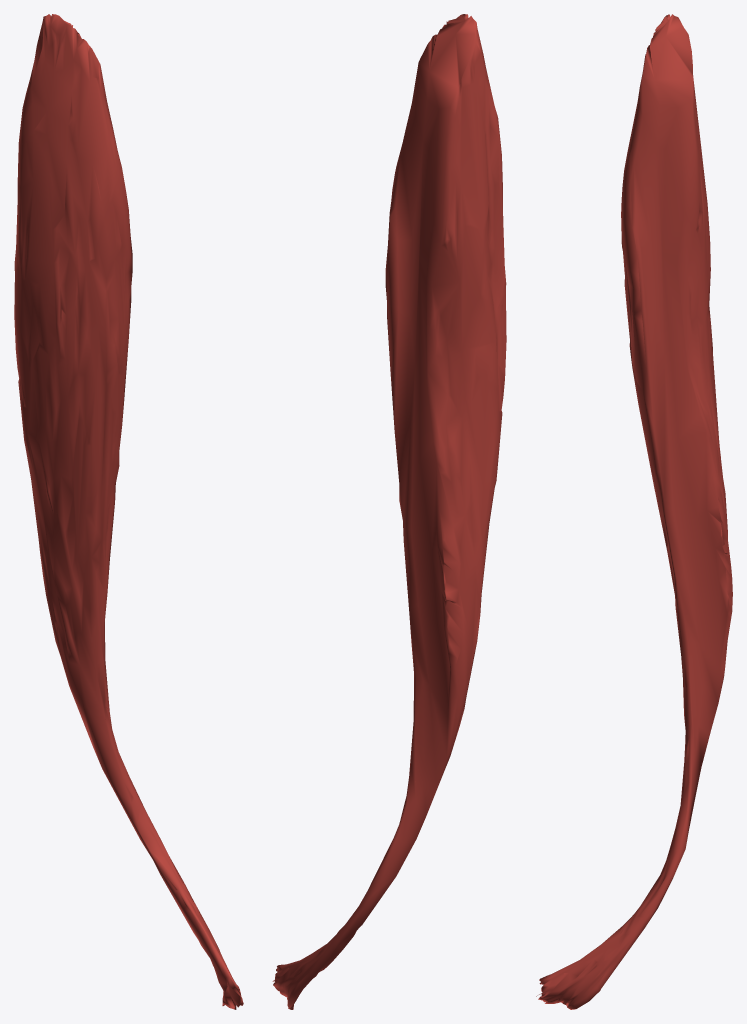
The model's file is musculos-tibialis-anterior-muscle-r.glb.
3 renders of one model, left to right at view 1: azimuth 30°, elevation 25°; view 2: azimuth 210°, elevation 25°; view 3: azimuth 270°, elevation 25°, orthographic. The views are drawn at different scales.
Visible parts, largest first — view 1: Tibialis anterior muscle.r; view 2: Tibialis anterior muscle.r; view 3: Tibialis anterior muscle.r.
Boxes of the visible parts, x1,y1,x2,y2 form: Tibialis anterior muscle.r: (14,14,243,1009); Tibialis anterior muscle.r: (272,14,506,1009); Tibialis anterior muscle.r: (536,14,732,1009).
Bounding box in the file's own units: 0.0608 × 0.3683 × 0.0703.
